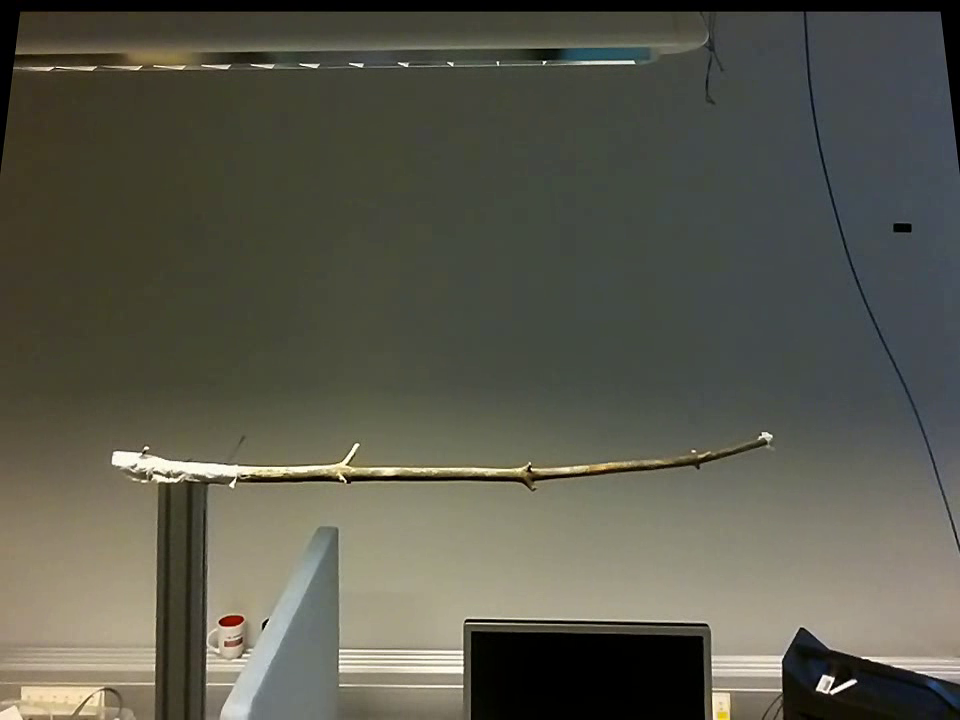aluminum_frame: (148, 488, 210, 719)
branch: (245, 428, 759, 500)
